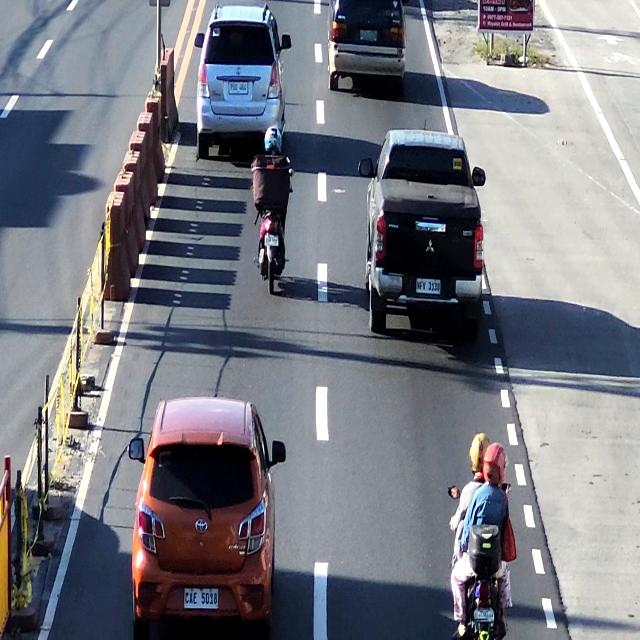Car: (132, 399, 273, 640), (367, 131, 485, 338), (198, 9, 284, 152), (330, 0, 404, 98)
License-Plate: (184, 586, 220, 611), (416, 277, 440, 296), (263, 229, 280, 248), (228, 80, 250, 94), (474, 609, 496, 622), (360, 30, 379, 44)
Motorcycle: (446, 435, 515, 640), (253, 124, 288, 304)
